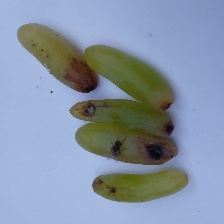grapes: (40, 32, 202, 176)
